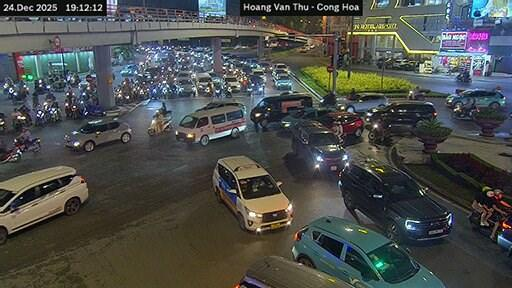motorbike: (467, 210, 511, 234), (368, 121, 390, 142), (13, 136, 40, 152), (451, 106, 476, 118), (0, 148, 21, 162), (83, 103, 105, 116), (18, 104, 30, 125), (34, 80, 50, 94), (12, 115, 25, 130), (320, 94, 336, 106), (160, 112, 170, 131), (12, 89, 25, 103), (35, 108, 45, 125), (3, 81, 16, 94), (67, 72, 79, 86), (147, 118, 156, 135), (406, 90, 423, 99), (70, 102, 80, 117), (454, 73, 470, 82), (6, 85, 16, 99), (47, 108, 57, 121), (51, 81, 64, 90), (252, 84, 263, 94), (64, 99, 70, 117), (0, 112, 5, 131), (214, 85, 221, 97), (224, 86, 230, 97)
